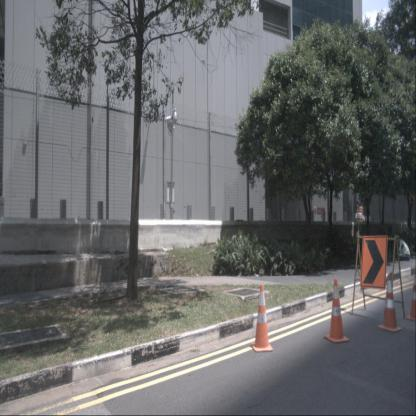cone: (250, 284, 274, 353), (325, 278, 349, 344), (379, 273, 403, 333), (404, 267, 416, 325)
